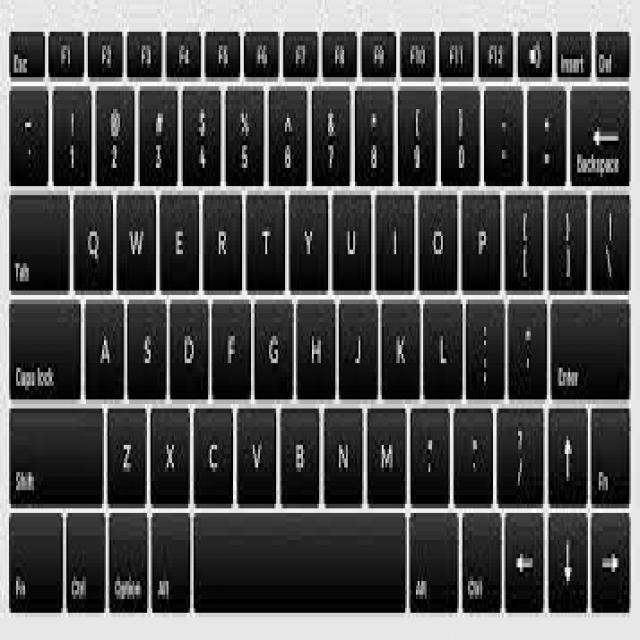others: (4, 14, 629, 612)
